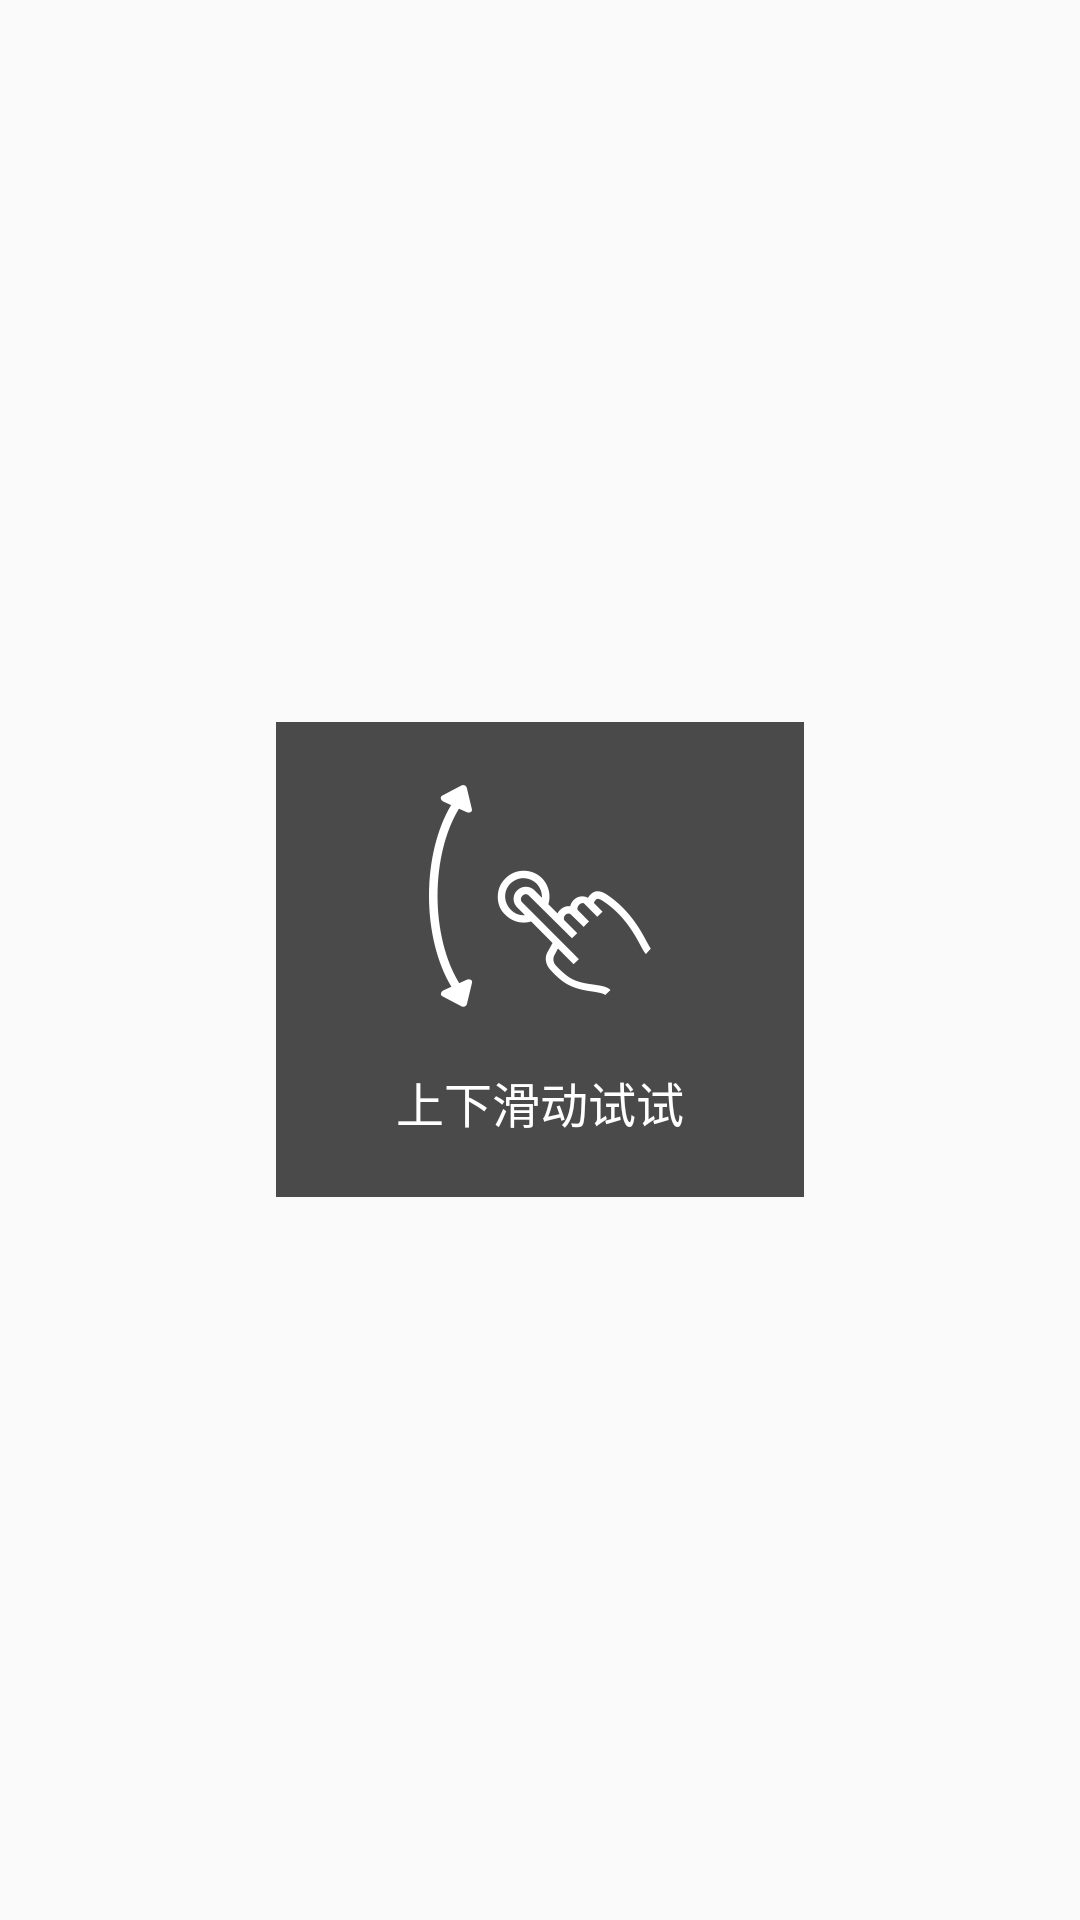

Named icons in this screenshot (1080*1920) and their bounding boxes, (x1,y1,x2,y2):
live guide: (429,785,651,1007)
